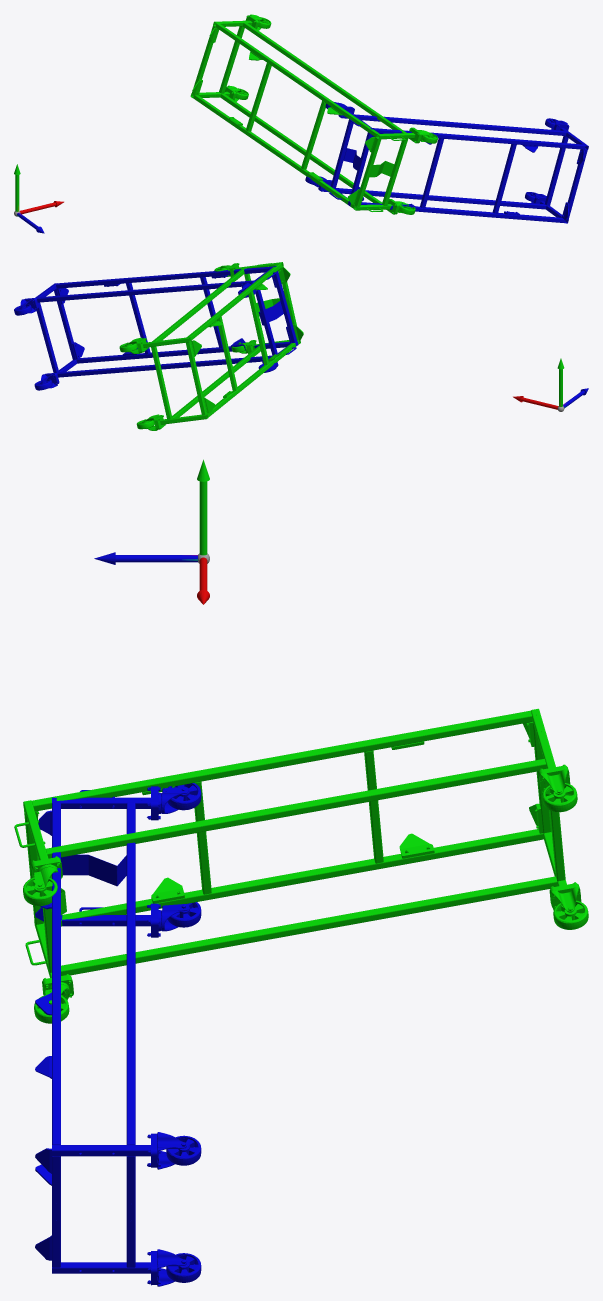
File: combined_scene_sample_323.glb
3 views of the same model, one above another, from view 1: azimuth 30°, elevation 25°; view 2: azimuth 150°, elevation 25°; view 3: azimuth 270°, elevation 25° (orthographic). The views are drawn at different scales.
Parts seen in each view (by area): view 1: pred, gt, frame; view 2: gt, pred, frame; view 3: pred, gt, frame.
Boxes of the visible parts, x1,y1,x2,y2 form: pred: (190,14,437,214); gt: (305,102,588,223); frame: (14,164,63,233); gt: (14,266,298,390); pred: (119,262,303,430); frame: (513,358,588,411); pred: (14,708,588,1023); gt: (35,783,201,1286); frame: (94,459,209,604).
Bounding box in the file's own units: 5.7 × 1.75 × 2.62.
